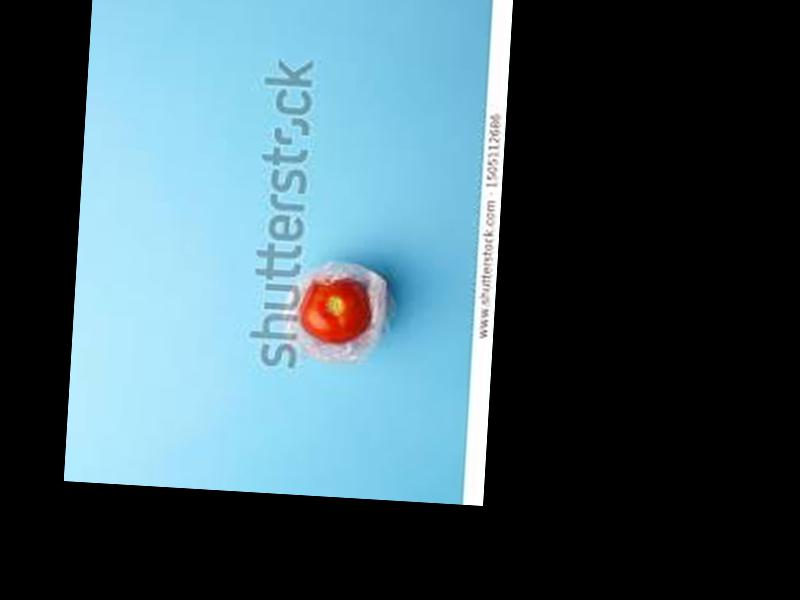Tomato: (298, 275, 371, 343)
